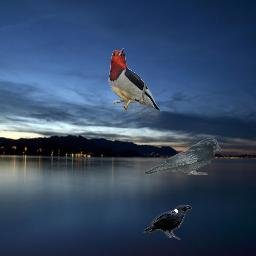Crow: (144, 138, 221, 175), (143, 205, 192, 240)
Woodpecker: (106, 45, 164, 119)
